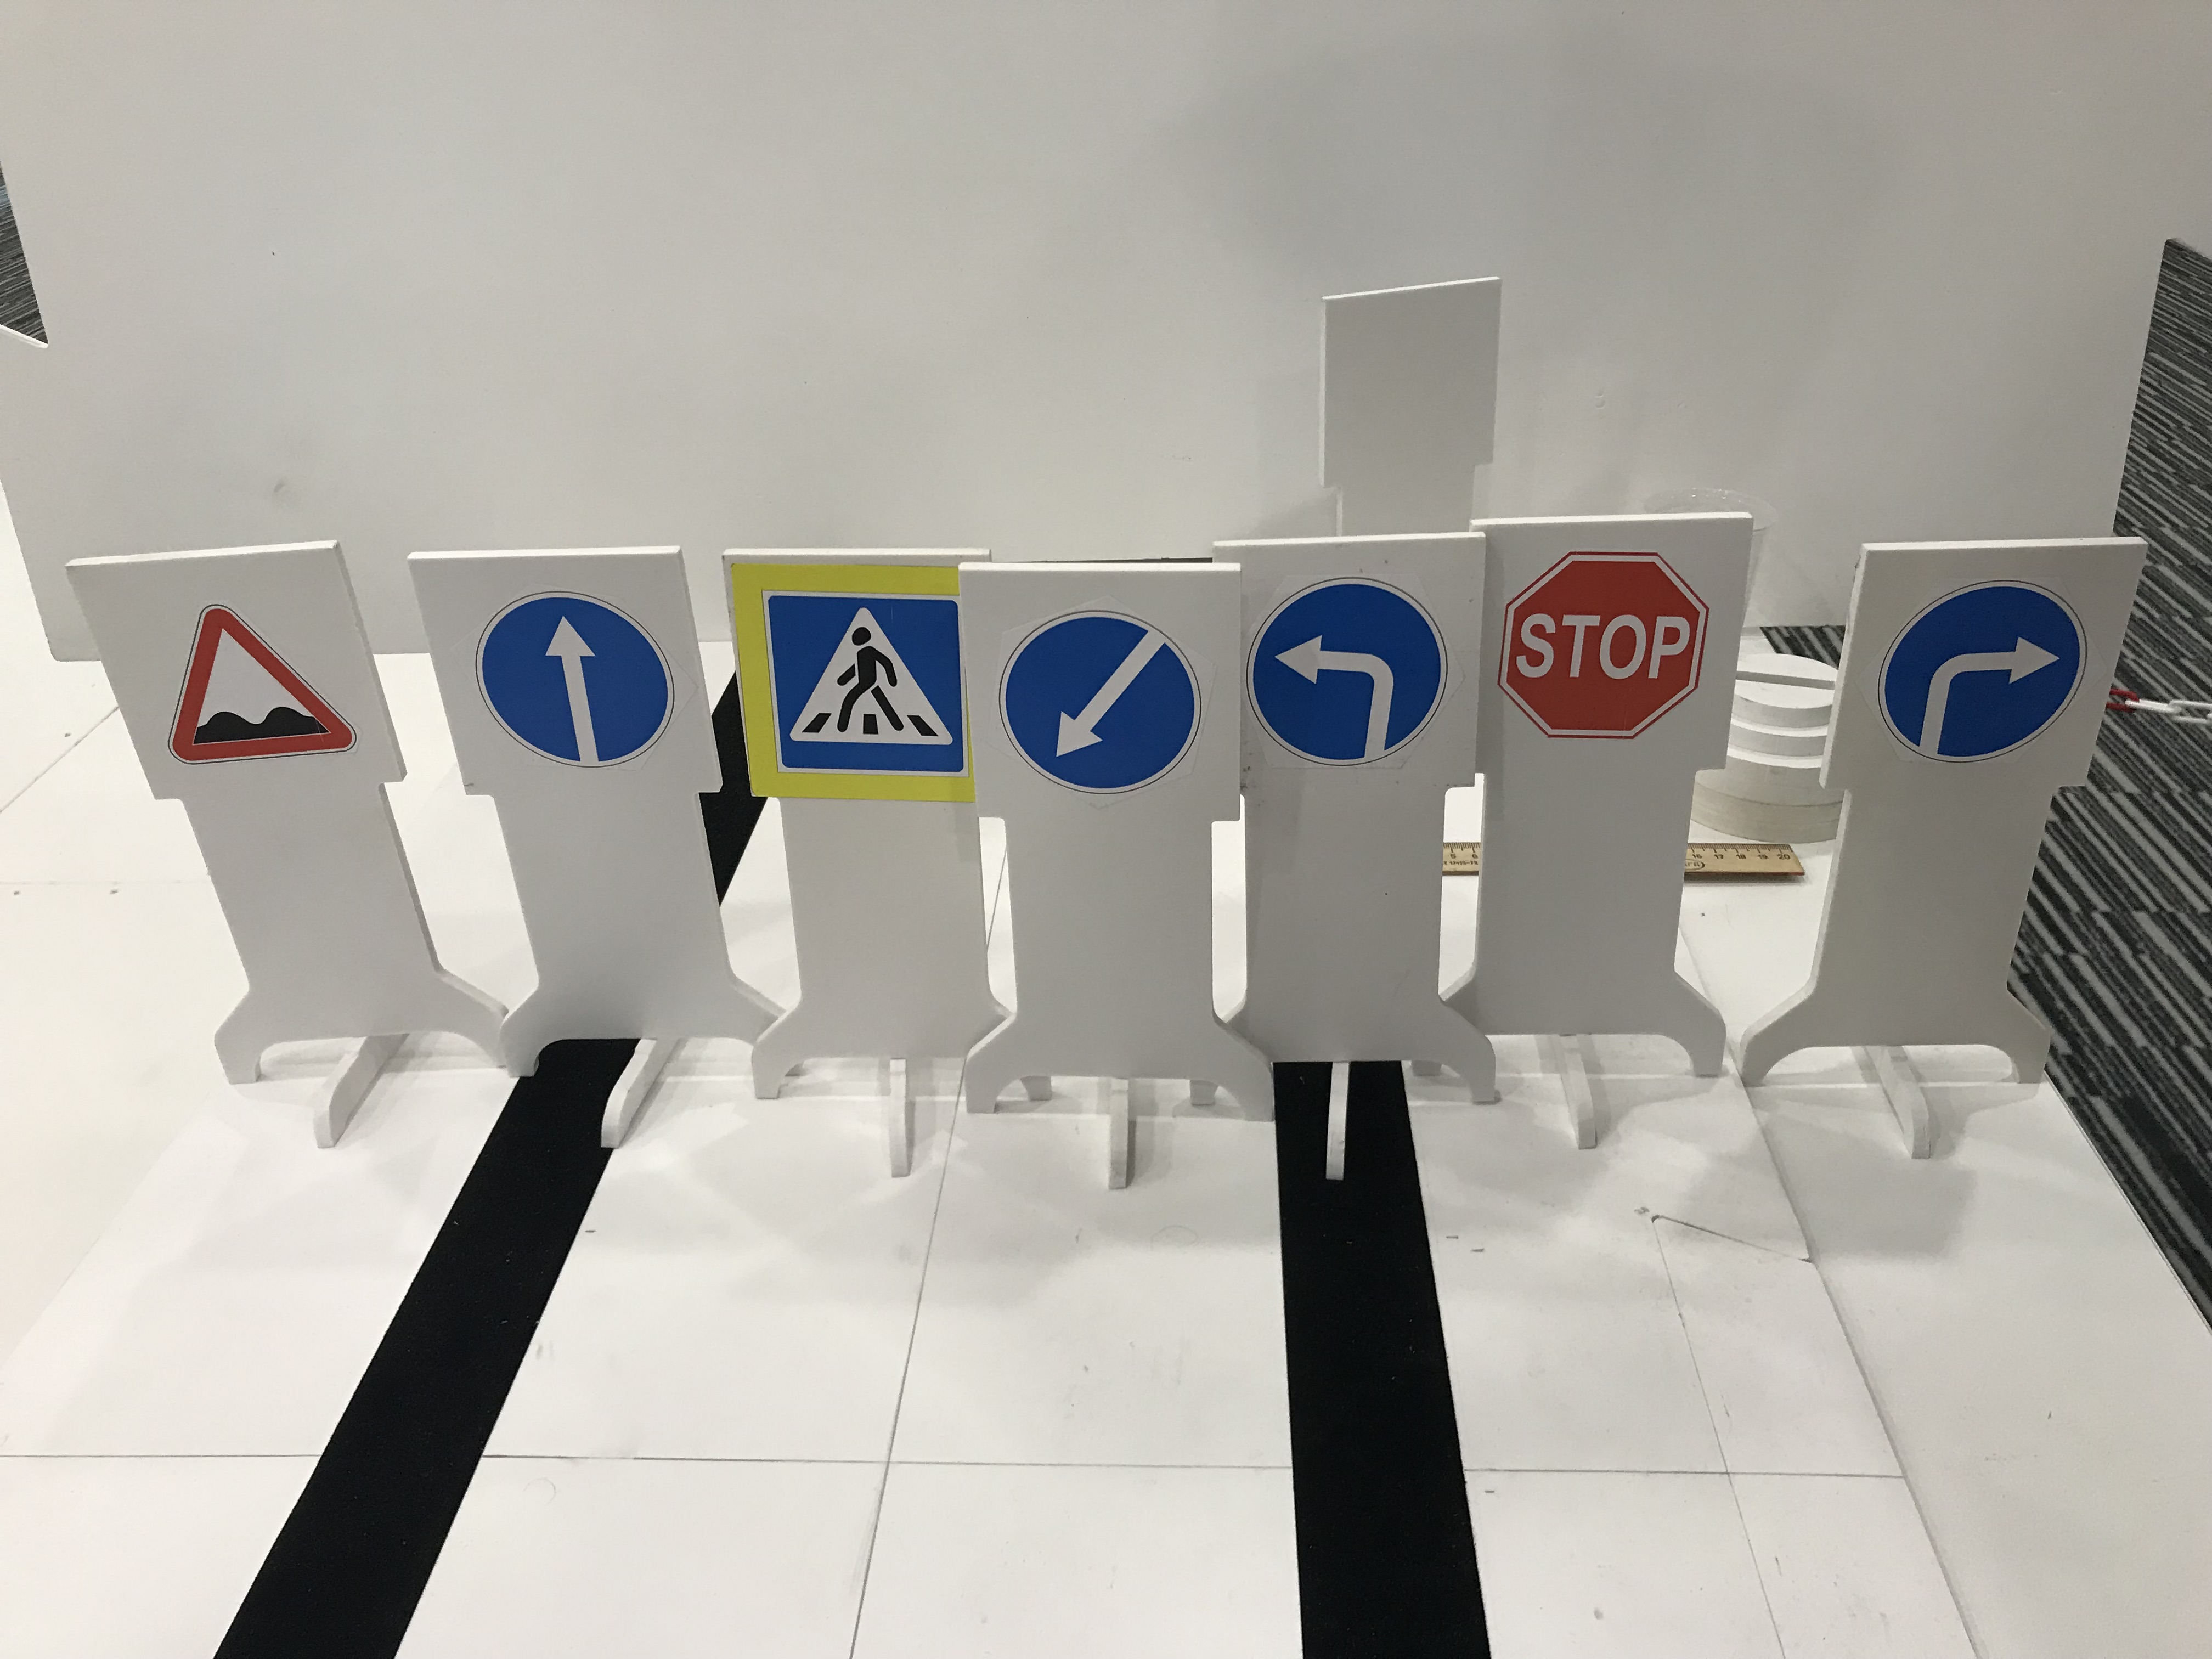Left: (1240, 572, 1446, 767)
Nerov: (167, 603, 359, 769)
Right: (1881, 572, 2087, 770)
Stop: (1493, 549, 1714, 749)
forw: (475, 592, 672, 770)
pesh: (740, 556, 979, 795)
prep: (996, 612, 1204, 796)
